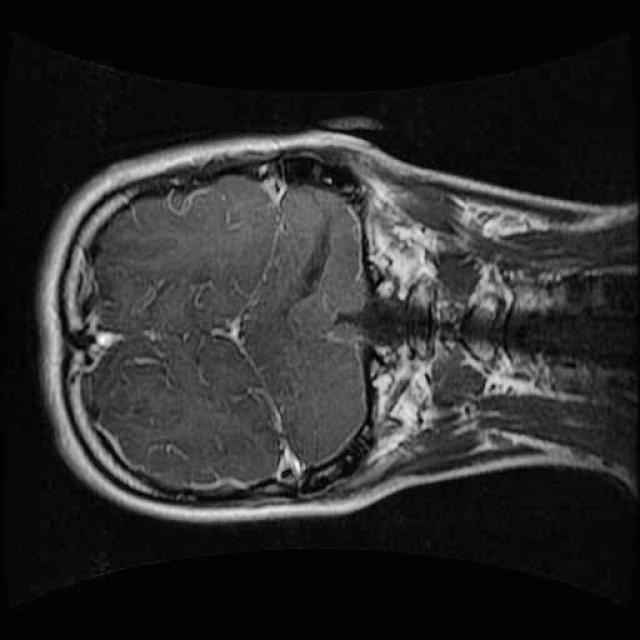Non-Tumor: (268, 204, 355, 322)
